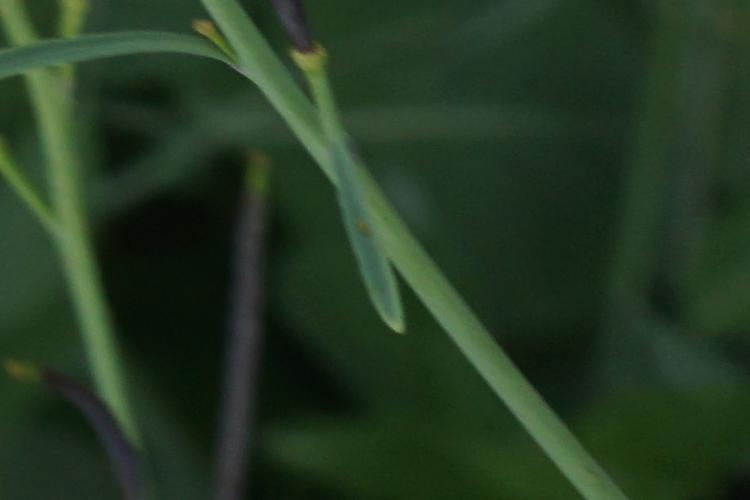pod: (205, 143, 278, 496), (6, 323, 157, 490), (267, 18, 357, 130)
